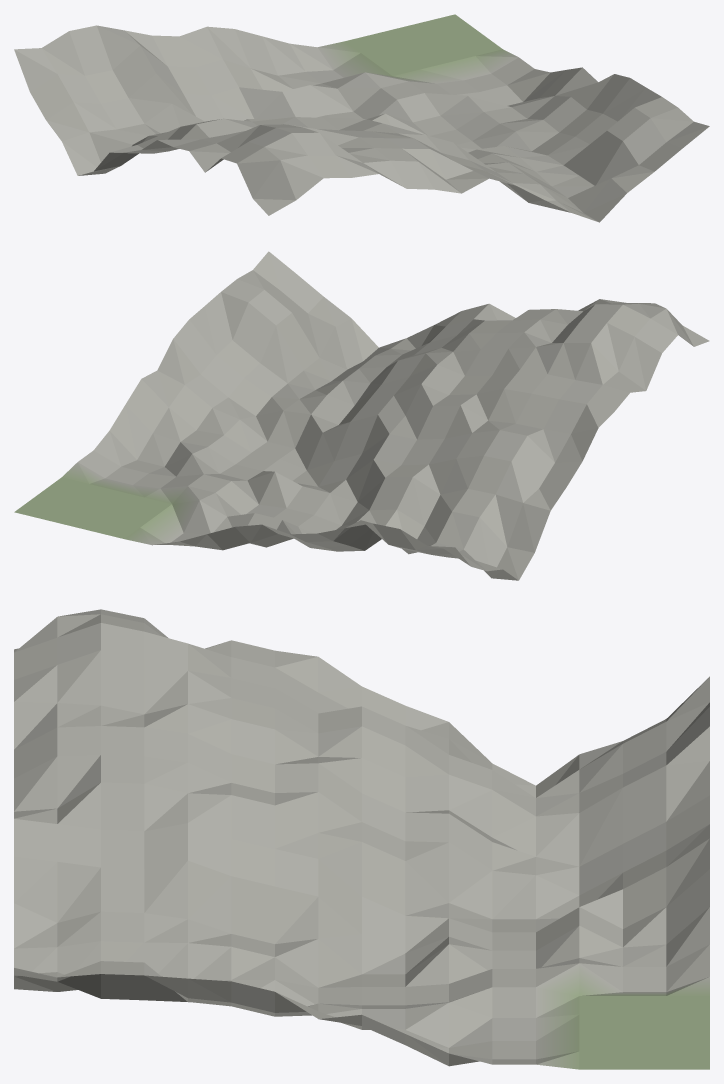
3 views of the same model, one above another, from view 1: azimuth 30°, elevation 25°; view 2: azimuth 150°, elevation 25°; view 3: azimuth 270°, elevation 25° (orthographic). The views are drawn at different scales.
Size of the model in its own units: 32 by 10.43 by 32.
